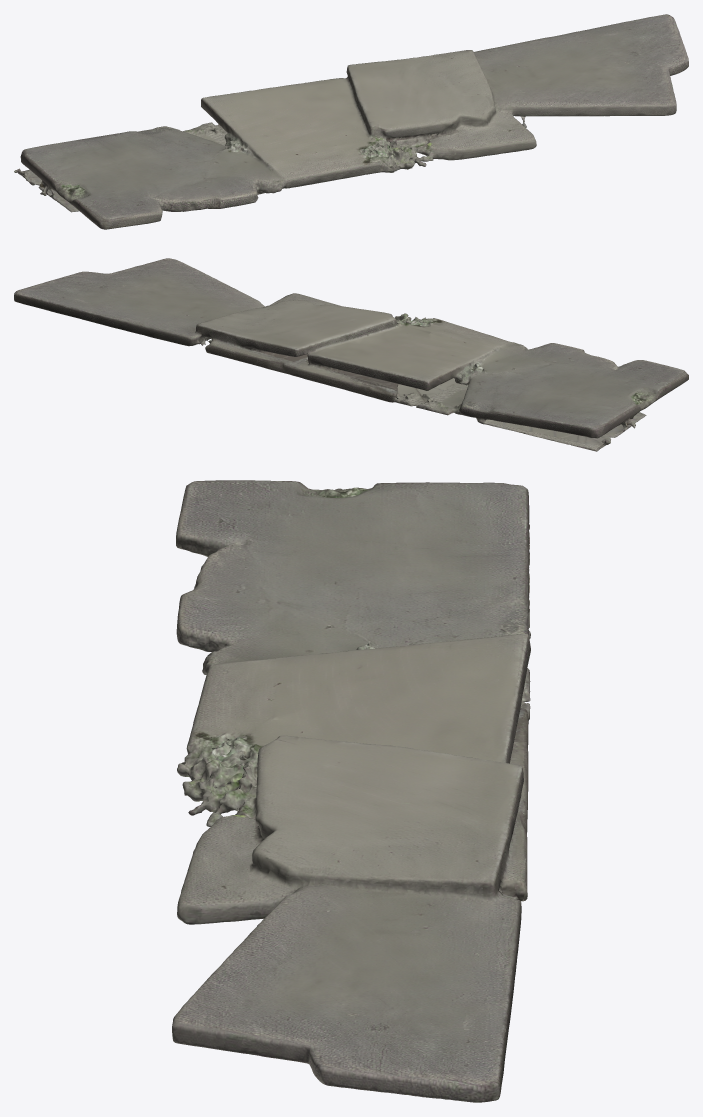
File: uneven_2.glb
3 views of the same model, one above another, from view 1: azimuth 30°, elevation 25°; view 2: azimuth 150°, elevation 25°; view 3: azimuth 270°, elevation 25° (orthographic). The views are drawn at different scales.
Visible parts, largest first — view 1: Mesh1.0; view 2: Mesh1.0; view 3: Mesh1.0.
Part boxes in pixels (x1,y1,x2,y2): Mesh1.0: (14,14,688,229); Mesh1.0: (14,258,688,451); Mesh1.0: (172,480,530,1102).
Bounding box in the file's own units: 1.91 × 0.1129 × 0.4938.
1 material, 1 textured.
